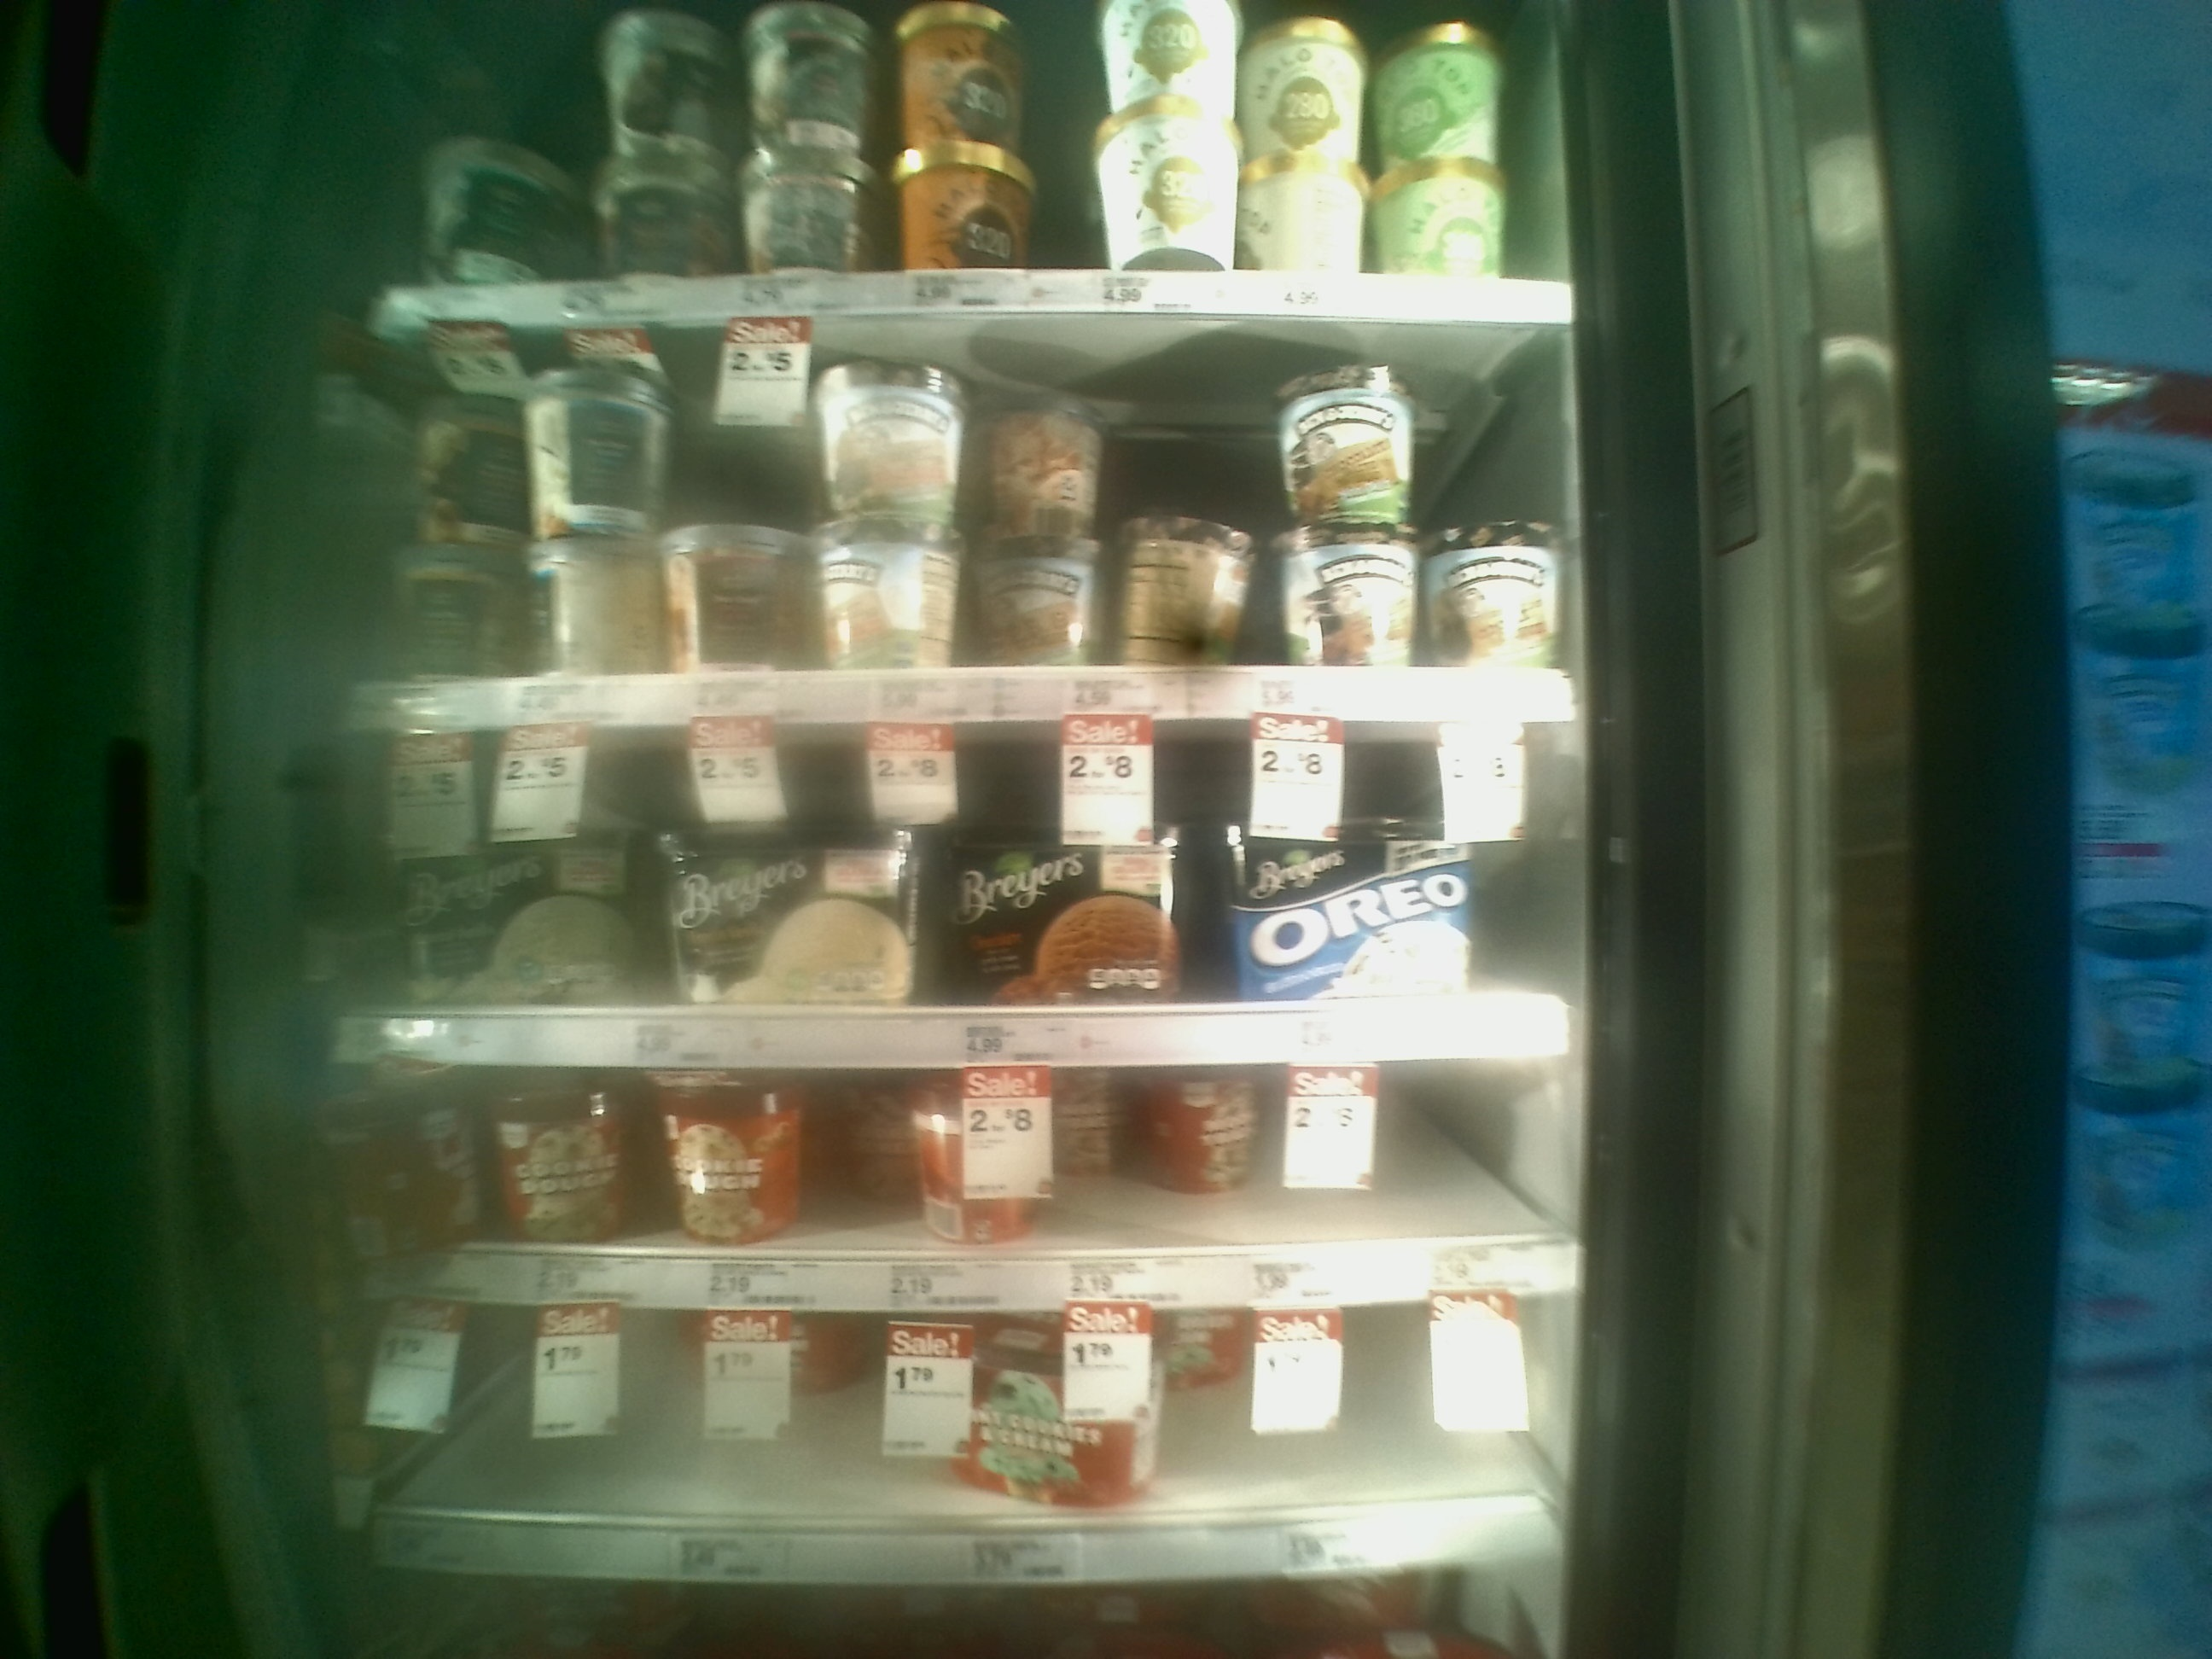ice-cream-shelf: (364, 319, 1601, 727), (355, 721, 1595, 1060), (350, 1309, 1601, 1593), (355, 1060, 1609, 1303)
